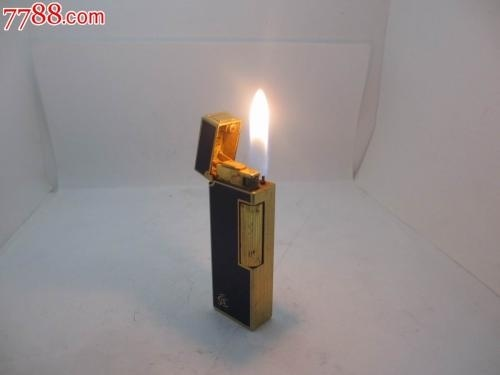fire: (245, 84, 270, 171)
